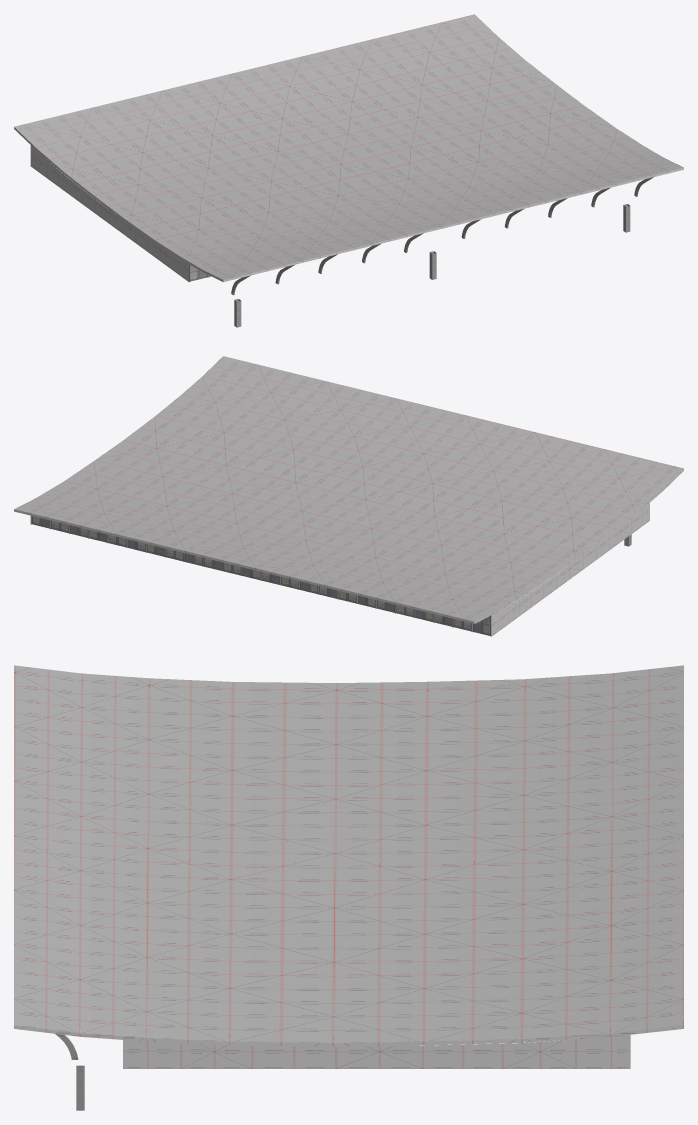
The model's file is terminal_roof_b.FBX.
The picture shows the model from 3 angles, top to bottom: view 1: azimuth 30°, elevation 25°; view 2: azimuth 150°, elevation 25°; view 3: azimuth 270°, elevation 25°; orthographic projection. The views are drawn at different scales.
Visible parts, largest first — view 1: terminal_roof_b; view 2: terminal_roof_b; view 3: terminal_roof_b.
Boxes of the visible parts, x1,y1,x2,y2 form: terminal_roof_b: [14, 14, 683, 327]; terminal_roof_b: [14, 356, 683, 636]; terminal_roof_b: [14, 665, 683, 1110].
Bounding box in the file's own units: 160 × 23.24 × 126.
Materials: 5 (5 with a texture image).
